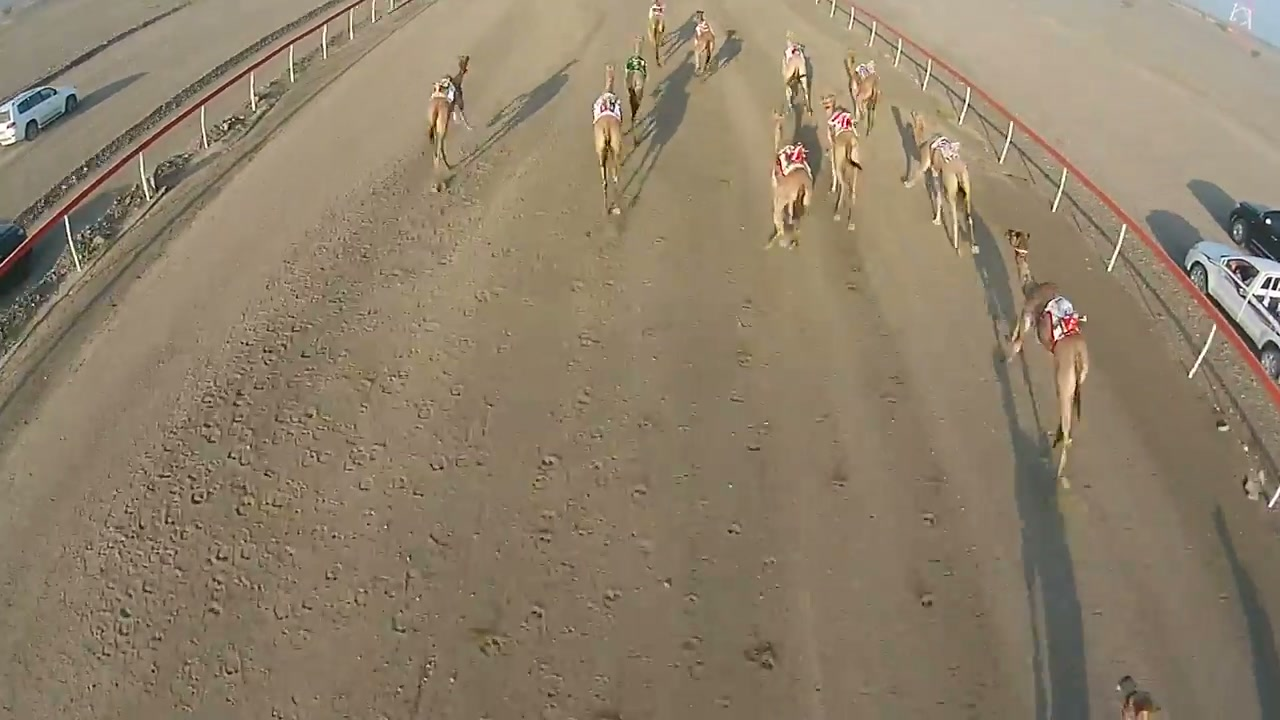animal_foot_print: (62, 202, 473, 708), (468, 250, 806, 708), (822, 286, 980, 649)
